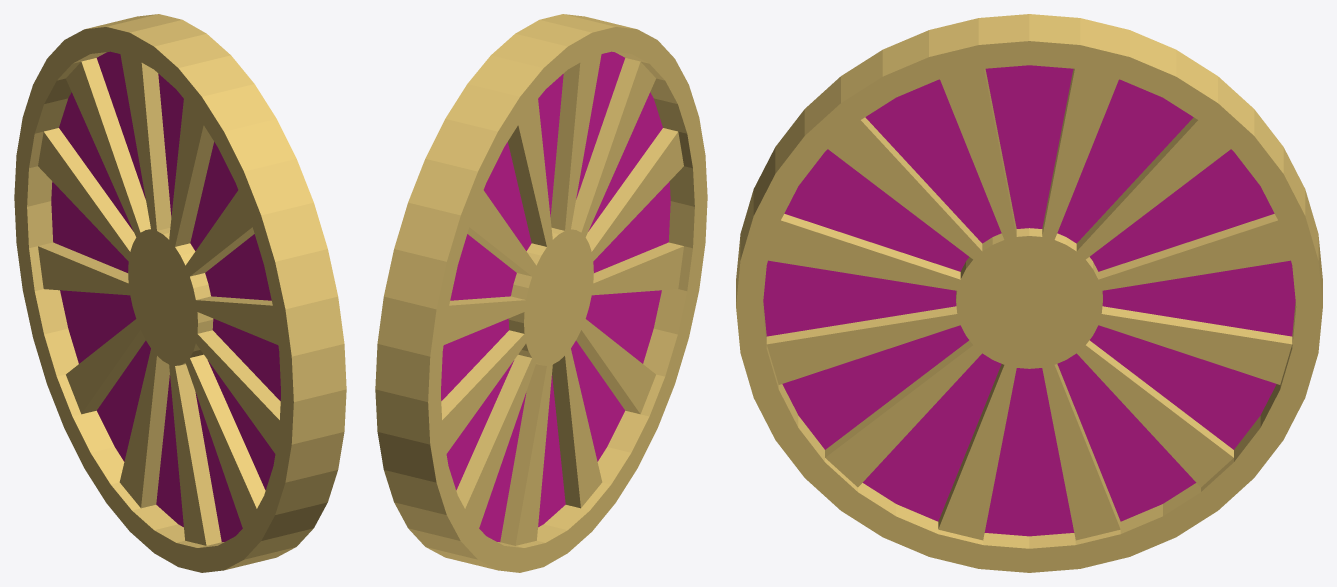
3 renders of one model, left to right at view 1: azimuth 30°, elevation 25°; view 2: azimuth 150°, elevation 25°; view 3: azimuth 270°, elevation 25°, orthographic. The views are drawn at different scales.
Parts seen in each view (by area): view 1: 50; view 2: 50; view 3: 50.
Boxes of the visible parts, box(x1,y1,x2,y2) form: 50: box(14, 14, 346, 572); 50: box(375, 14, 707, 572); 50: box(736, 14, 1322, 572).
Size of the model in its own units: 21.8 by 200 by 200.
